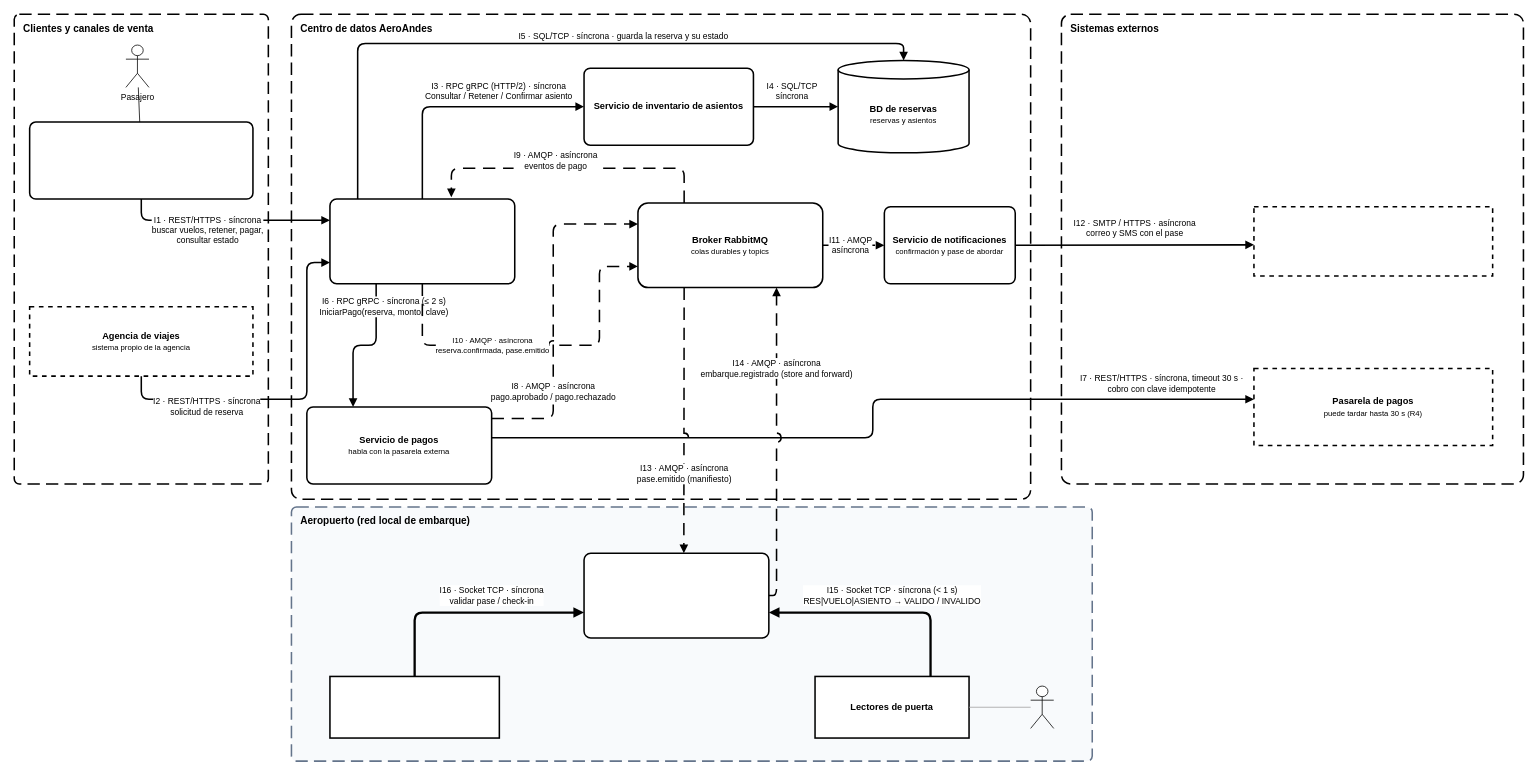
This 1537x775 diagram has some shape labels left out. Here are the shapes that lost their labels. From the top down, the box of each, then its label:
(28, 121, 253, 199): Cliente app móvil o web
(329, 198, 515, 284): Servicio de reservas recibe solicitudes y coordina la operación
(1253, 206, 1493, 276): Proveedor de correo y SMS
(583, 552, 769, 638): Servidor de embarque copia local del manifiesto del vuelo
(329, 675, 500, 738): Quioscos de autoservicio
(1030, 685, 1054, 728): Personal de aeropuerto
